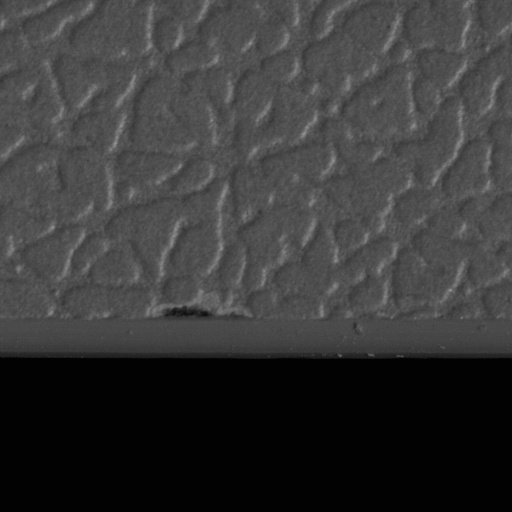bengque: (145, 295, 254, 323)
